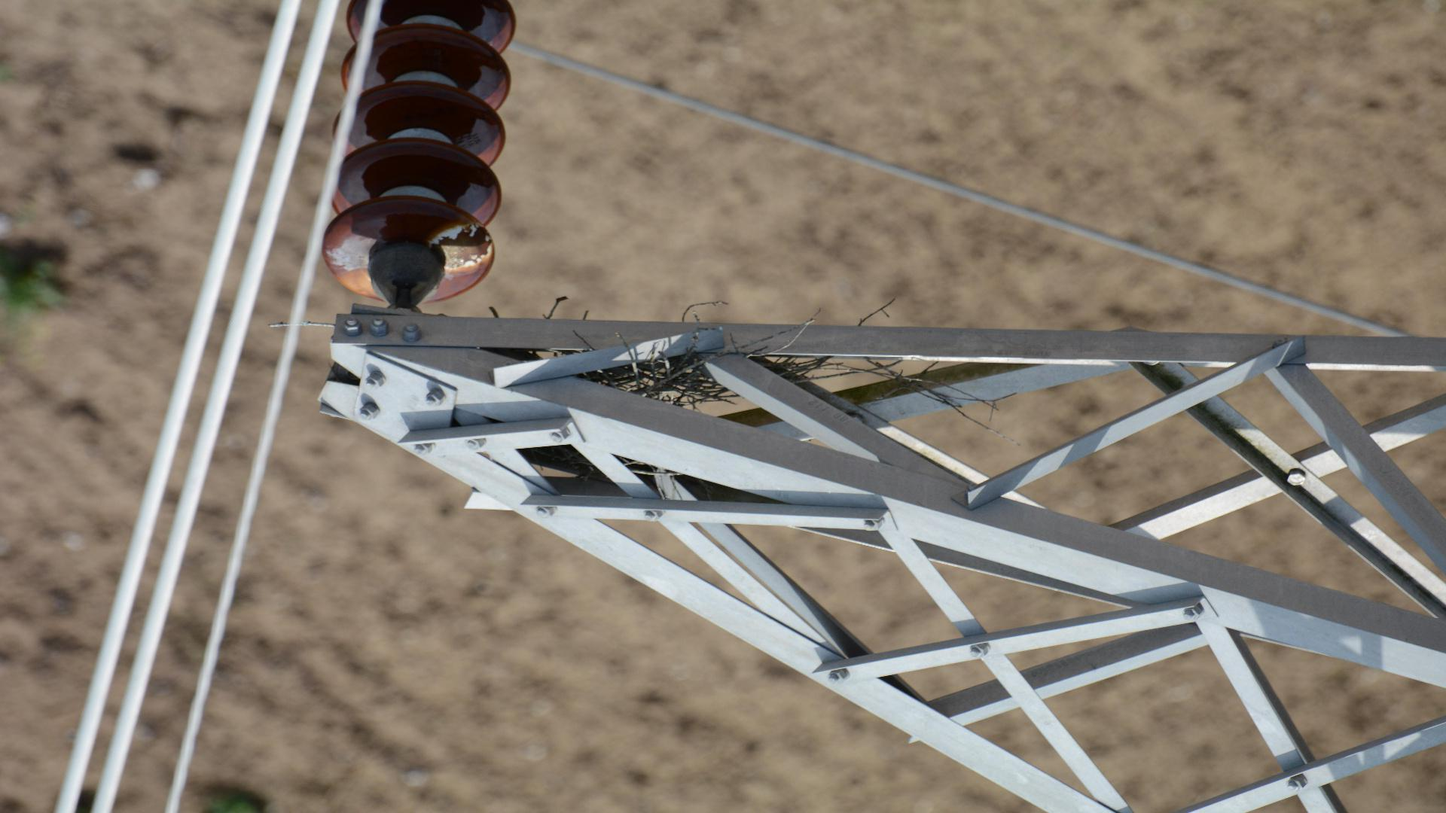insulator: (318, 1, 523, 308)
insulator_flashover: (429, 219, 496, 274), (324, 216, 388, 273)
